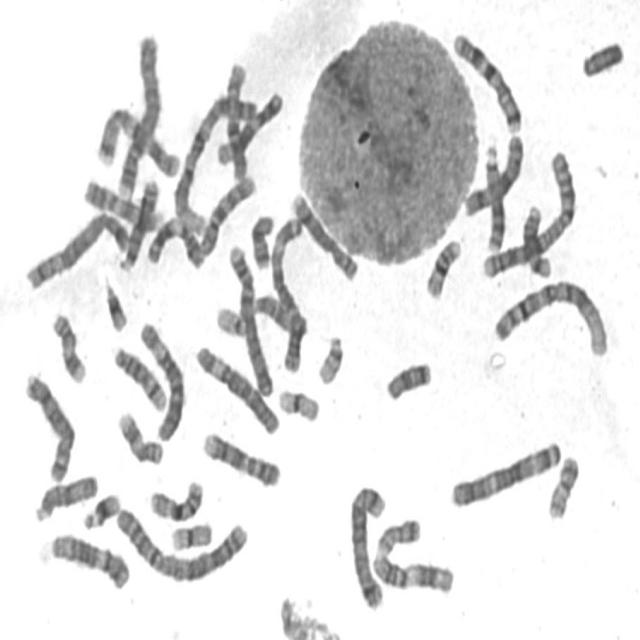A1: (170, 86, 262, 236), (490, 272, 610, 360)
A2: (477, 142, 579, 281), (111, 498, 251, 586)
A3: (446, 432, 564, 510), (266, 208, 307, 376)
B4: (112, 25, 162, 202), (225, 236, 276, 399)
B5: (21, 205, 133, 292), (346, 477, 388, 612)
C10: (194, 166, 258, 258), (221, 55, 251, 183)
C11: (368, 545, 456, 596), (142, 208, 206, 271)
C12: (212, 83, 286, 166), (42, 527, 132, 592)
C6: (192, 337, 281, 437), (135, 313, 188, 443)
C7: (447, 24, 524, 134), (92, 100, 182, 179)
C8: (286, 185, 360, 284), (19, 364, 77, 485)
C9: (198, 424, 282, 490), (79, 172, 163, 232)
D13: (117, 172, 161, 272), (479, 137, 508, 254)
D14: (109, 339, 169, 412), (517, 197, 554, 280)
D15: (30, 466, 100, 524), (242, 288, 309, 341)
E16: (144, 472, 206, 522), (421, 231, 463, 301)
E17: (113, 403, 165, 468), (48, 305, 88, 386)
E18: (381, 353, 434, 403), (247, 206, 276, 271)
F19: (274, 381, 322, 424), (165, 514, 215, 554)
F20: (542, 447, 582, 522), (372, 511, 422, 558)
G21: (78, 486, 122, 532), (100, 274, 129, 334)
G22: (312, 328, 346, 387), (211, 298, 250, 339)
X: (460, 128, 525, 218)
Y: (576, 32, 626, 80)
